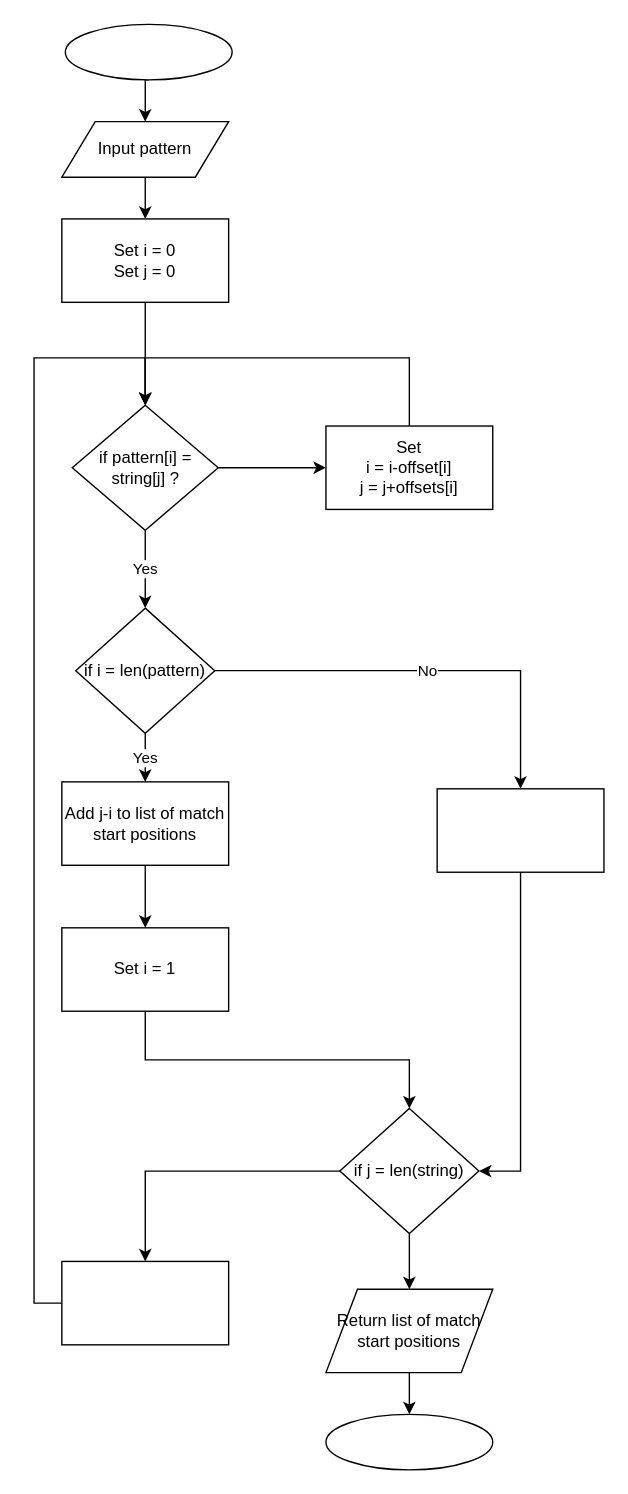
Image size: 628x1494. Some labels were removed from this diagram. Each missing label, with the centre of its shape:
"End" goes at point (409, 1441).
"Set i = i + 1" goes at point (520, 829).
"Set j = j + 1" goes at point (144, 1302).
"Start" goes at point (148, 51).
